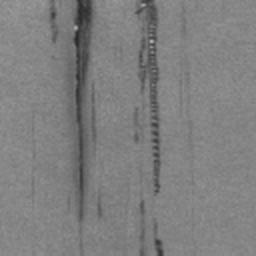Slag inclusion: (132, 0, 163, 196), (70, 0, 96, 224), (47, 0, 60, 46), (138, 198, 148, 256), (152, 221, 166, 256), (96, 192, 102, 220), (132, 132, 140, 142), (134, 106, 138, 125)
